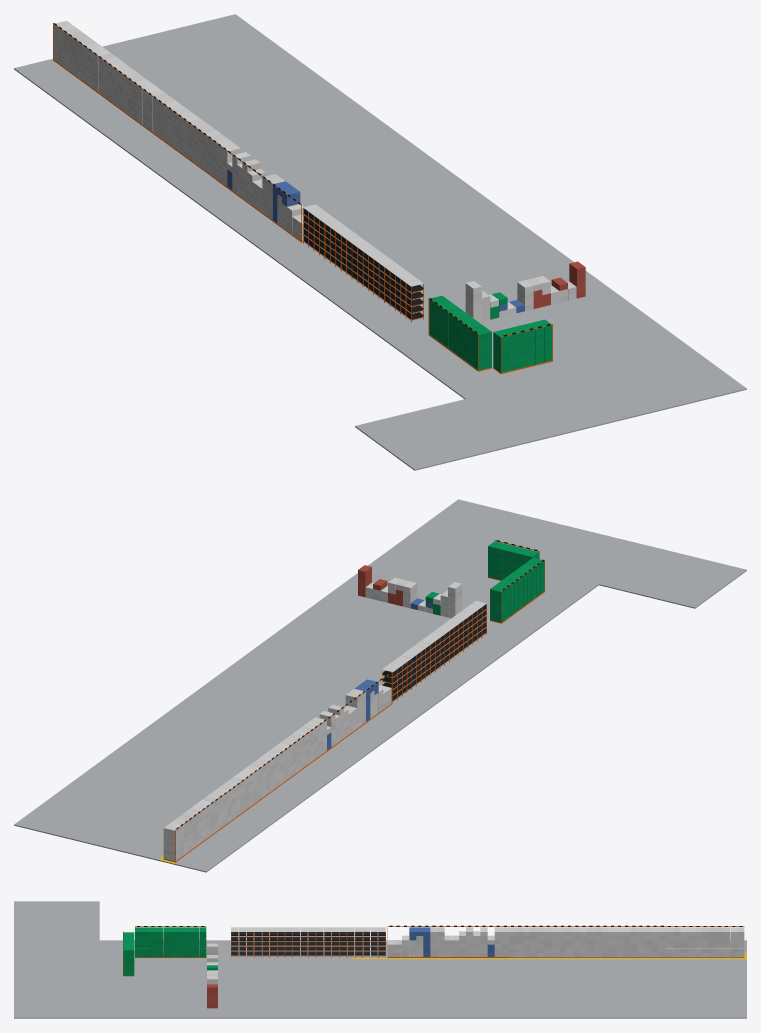
3 views of the same model, one above another, from view 1: azimuth 30°, elevation 25°; view 2: azimuth 150°, elevation 25°; view 3: azimuth 270°, elevation 25° (orthographic). The views are drawn at different scales.
Size of the model in its own units: 22.5 by 2.55 by 60.
